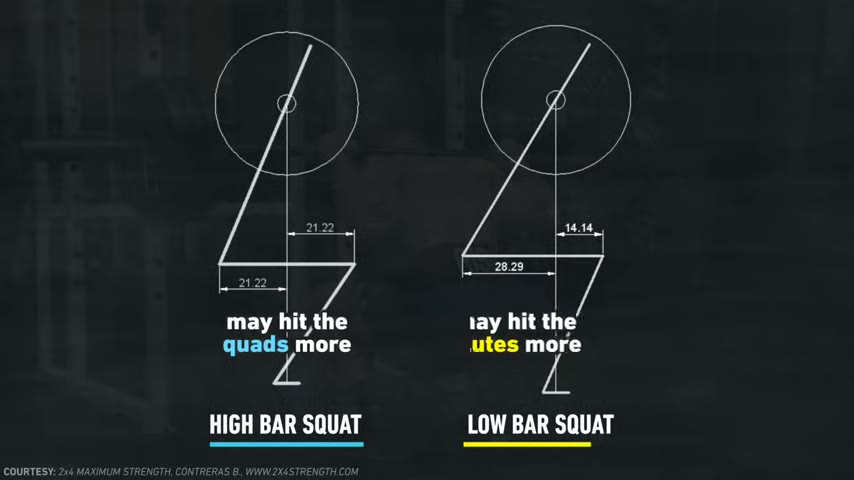barbell_plate_side: (582, 19, 636, 181), (206, 30, 264, 179), (313, 30, 368, 181), (475, 13, 521, 179)
